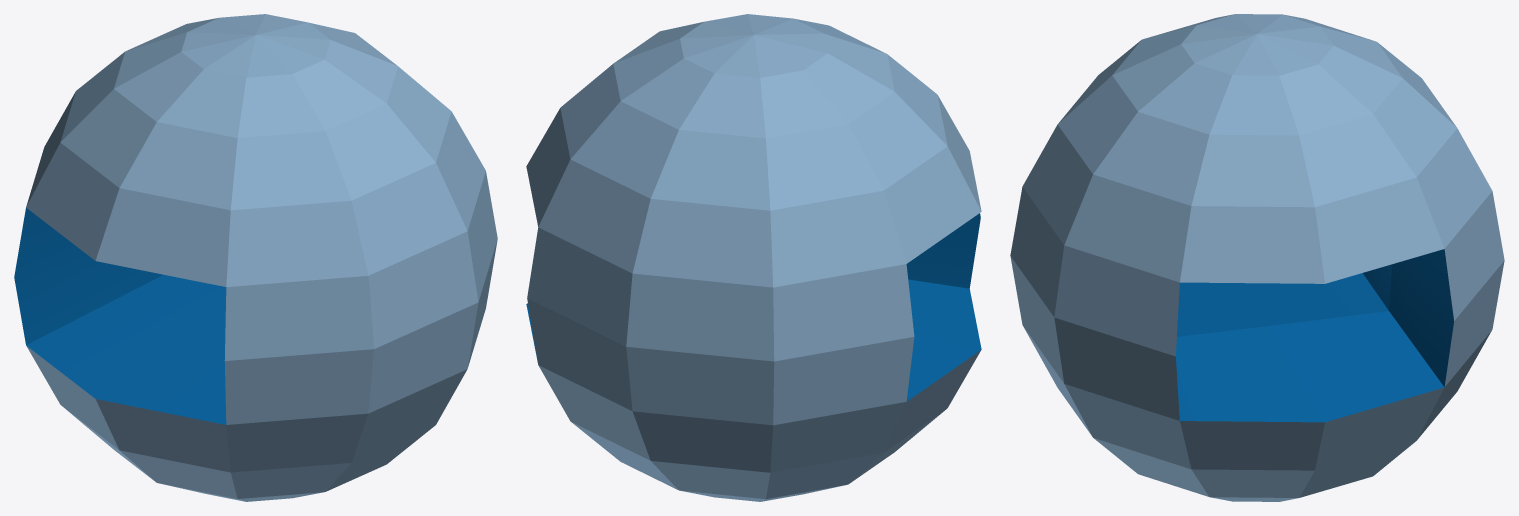
File: Cutout_Out.fbx
3 renders of one model, left to right at view 1: azimuth 30°, elevation 25°; view 2: azimuth 150°, elevation 25°; view 3: azimuth 270°, elevation 25°, orthographic.
Visible parts, largest first — view 1: pSphere3; view 2: pSphere3; view 3: pSphere3.
Boxes of the visible parts, left/top/right/bottom form: pSphere3: left=14, top=14, right=497, bottom=501; pSphere3: left=526, top=14, right=981, bottom=501; pSphere3: left=1010, top=14, right=1504, bottom=501.
Bounding box in the file's own units: 4.35 × 4.61 × 4.6.
